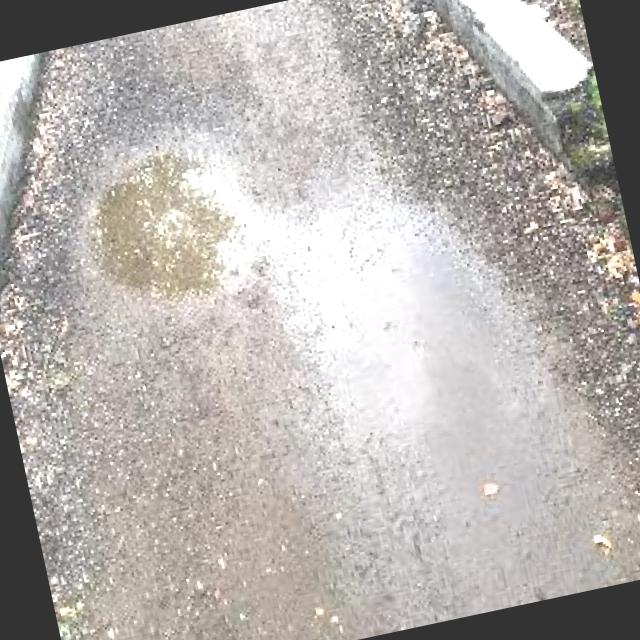stagnation: (79, 164, 291, 312)
